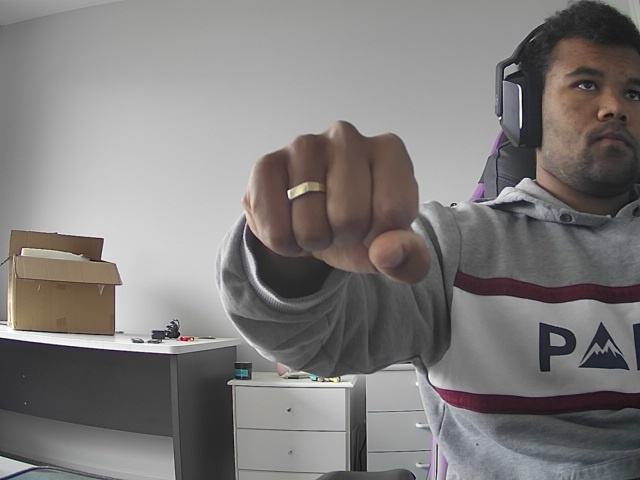Yes: (232, 114, 458, 291)
